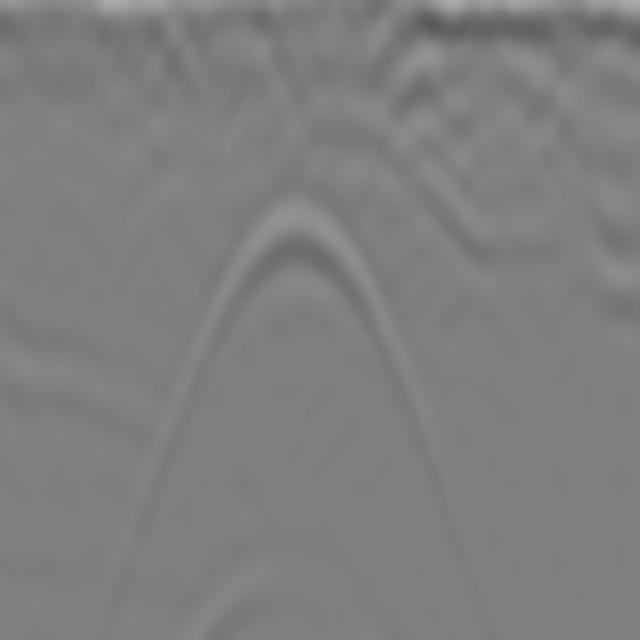hyperbola: (187, 185, 412, 386)
